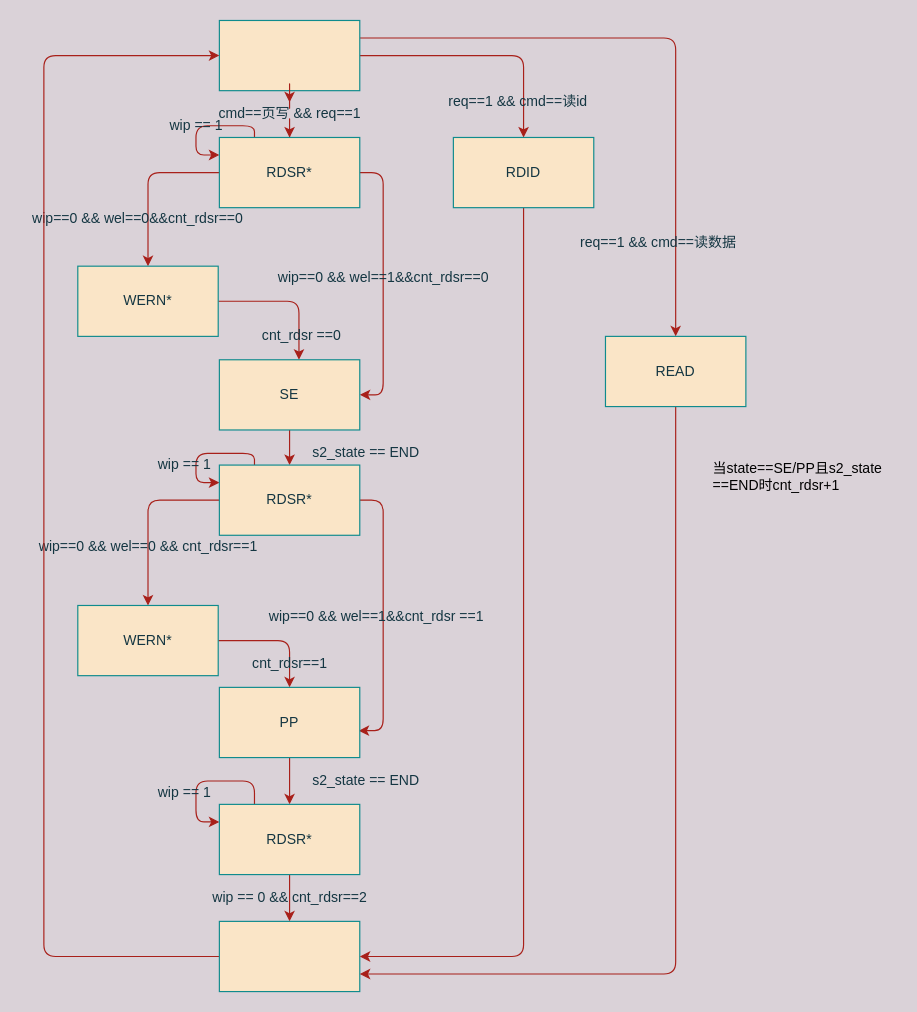
Some shapes in this 917 by 1012 pixel diagram are drawn without their labels. Here are the shapes that lost their labels. From the top down, the box of each, then its label:
(218, 19, 360, 91): IDLE
(218, 920, 360, 992): DONE
